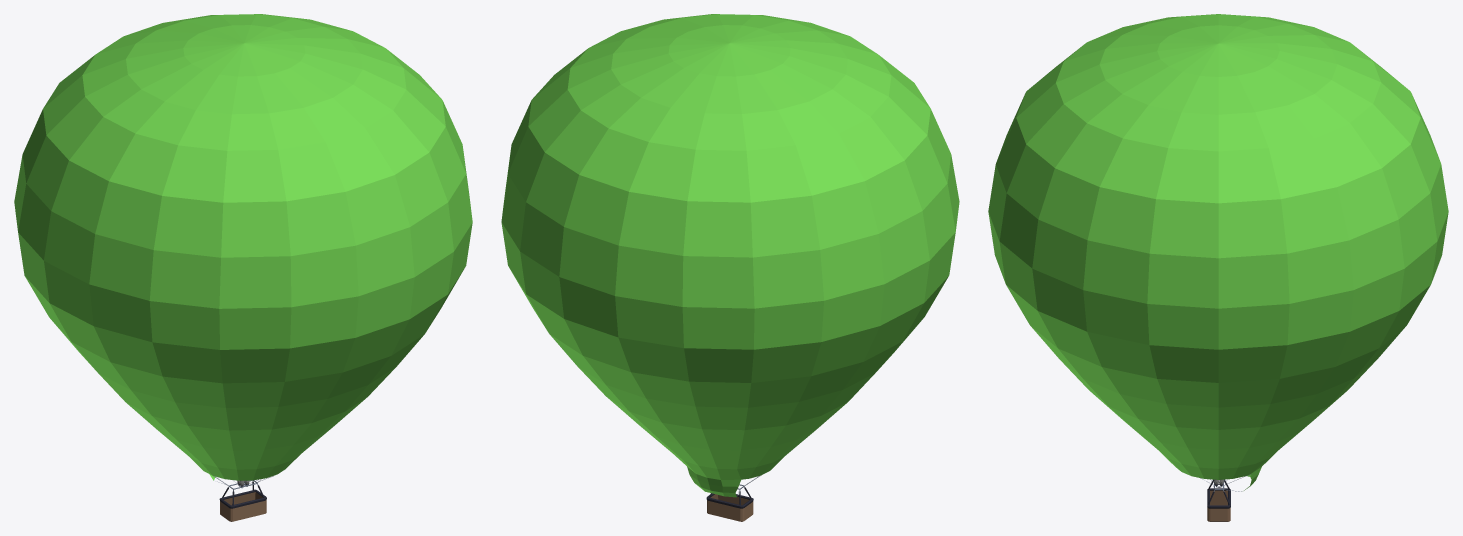
Rendered from HotAirBallon_Big_04.fbx.
3 views of the same model, side by side, from view 1: azimuth 30°, elevation 25°; view 2: azimuth 150°, elevation 25°; view 3: azimuth 270°, elevation 25° (orthographic).
Visible parts, largest first — view 1: HotAirBallon_Big_04; view 2: HotAirBallon_Big_04; view 3: HotAirBallon_Big_04.
Part boxes in pixels (x1,y1,x2,y2): HotAirBallon_Big_04: (14, 14, 472, 521); HotAirBallon_Big_04: (501, 14, 959, 521); HotAirBallon_Big_04: (988, 14, 1448, 521).
Bounding box in the file's own units: 32.13 × 36.26 × 32.13.
